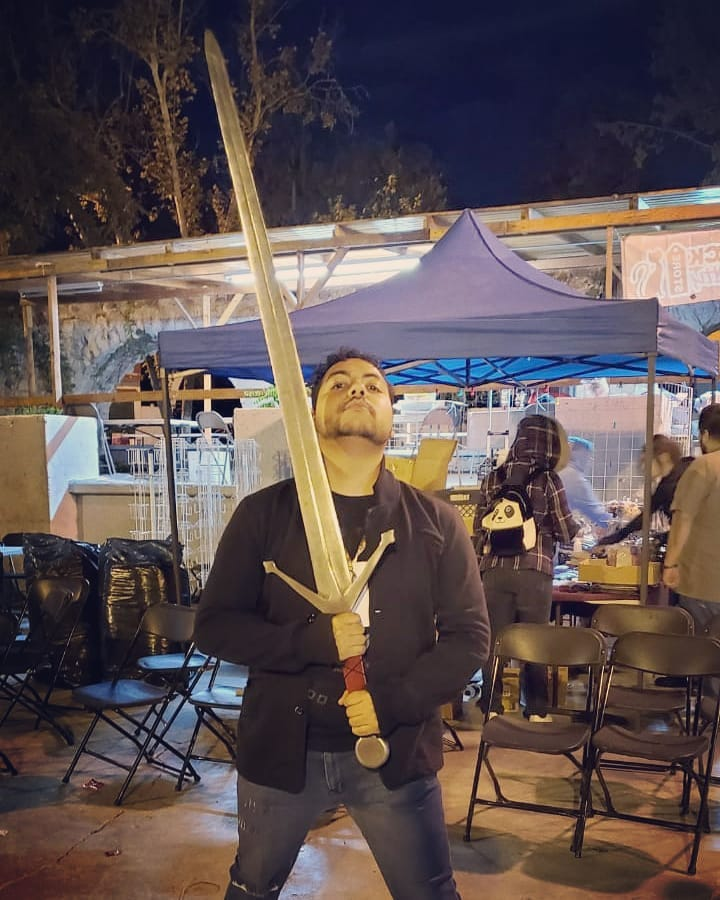Yoshi: (207, 322, 536, 847)
